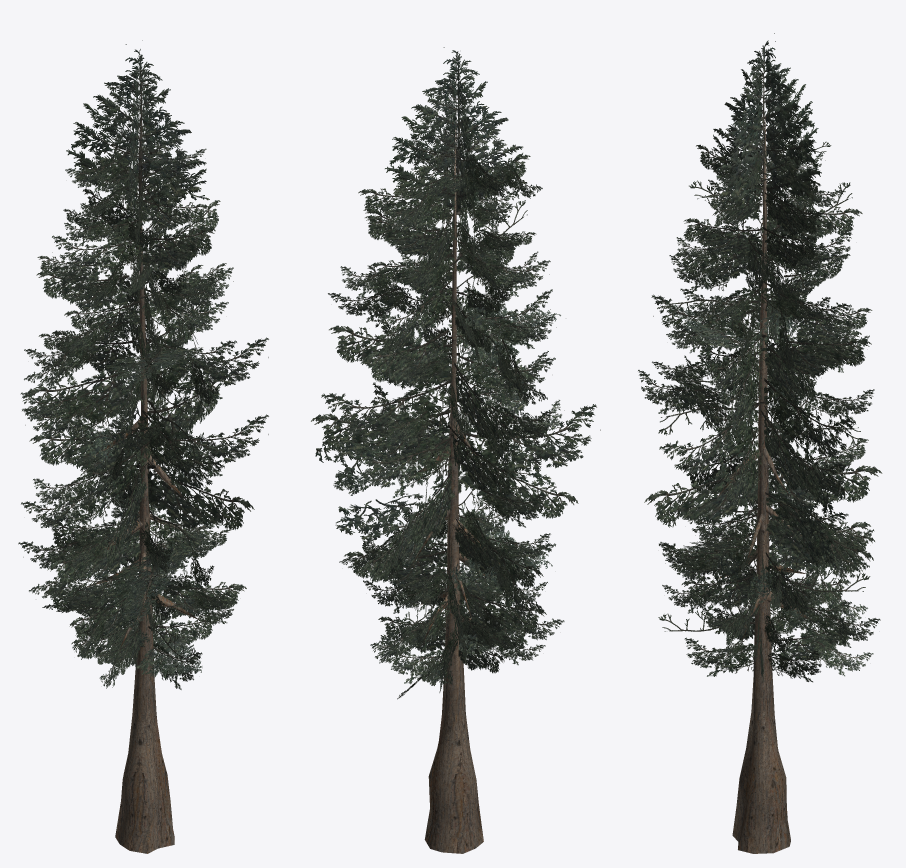
The model's file is broad_a.glb.
The picture shows the model from 3 angles, left to right: view 1: azimuth 30°, elevation 25°; view 2: azimuth 150°, elevation 25°; view 3: azimuth 270°, elevation 25°; orthographic projection.
Visible parts, largest first — view 1: tree; view 2: tree; view 3: tree.
Boxes of the visible parts, x1,y1,x2,y2 form: tree: [18, 40, 268, 853]; tree: [311, 47, 600, 853]; tree: [638, 33, 882, 853].
Size of the model in its own units: 3.07 by 10 by 2.95.
Materials: 2 (2 with a texture image).
